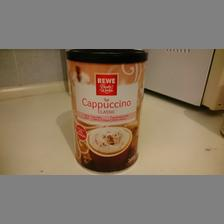Kaffee: (64, 48, 144, 172)
